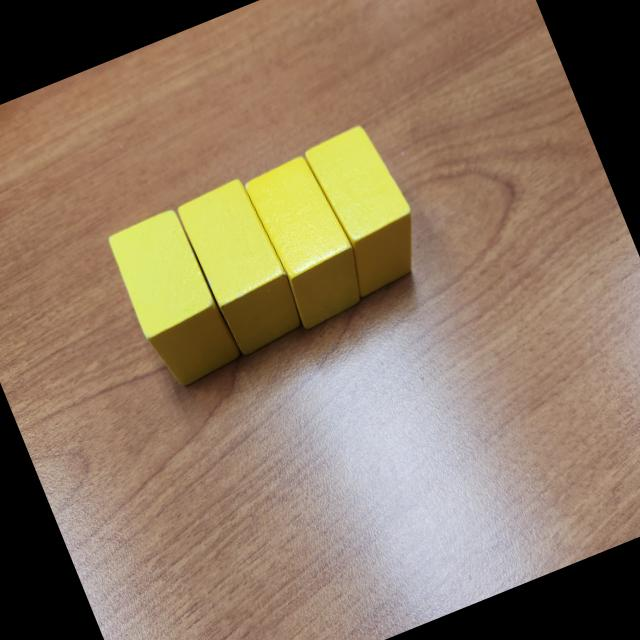yellow: (103, 204, 244, 394), (174, 171, 310, 358), (240, 150, 376, 334), (299, 118, 436, 300)
